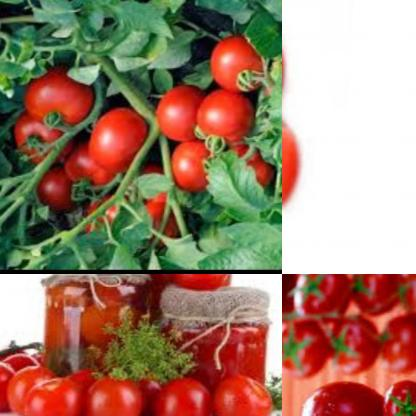tomato: (297, 380, 416, 416), (91, 109, 153, 177), (25, 73, 96, 132), (211, 34, 272, 96), (195, 93, 261, 150), (326, 313, 383, 379), (3, 355, 58, 416), (282, 320, 334, 383), (22, 371, 93, 416), (87, 369, 154, 416), (211, 372, 282, 416), (169, 141, 223, 197), (151, 373, 218, 416), (155, 88, 201, 148), (15, 117, 66, 170), (225, 143, 274, 198), (340, 274, 396, 320), (39, 170, 93, 217), (62, 146, 113, 194), (289, 274, 344, 316), (375, 317, 416, 373), (385, 375, 416, 416), (0, 353, 19, 415), (391, 274, 416, 313), (170, 274, 229, 287)
